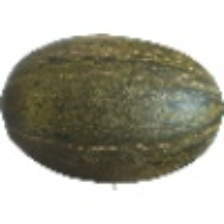honeydew: (29, 39, 188, 175)
